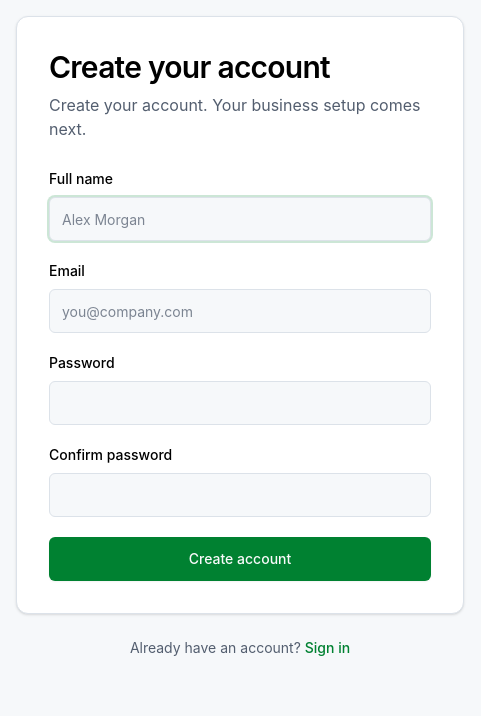
SignupPage › shows required field and password length validation
What coordinates should you click on to do the following:
click the button "Create account"
I would click on:
 (240, 559)
Its box is [49,537,431,581].
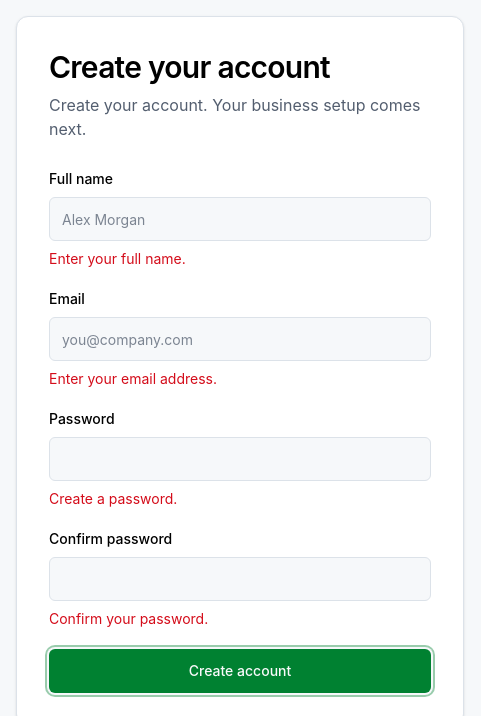
Now the text "Enter your full name." is shown, box [49,250,186,267]
Now the text "Enter your email address." is shown, box [49,370,217,387]
Now the text "Create a password." is shown, box [49,490,177,507]
